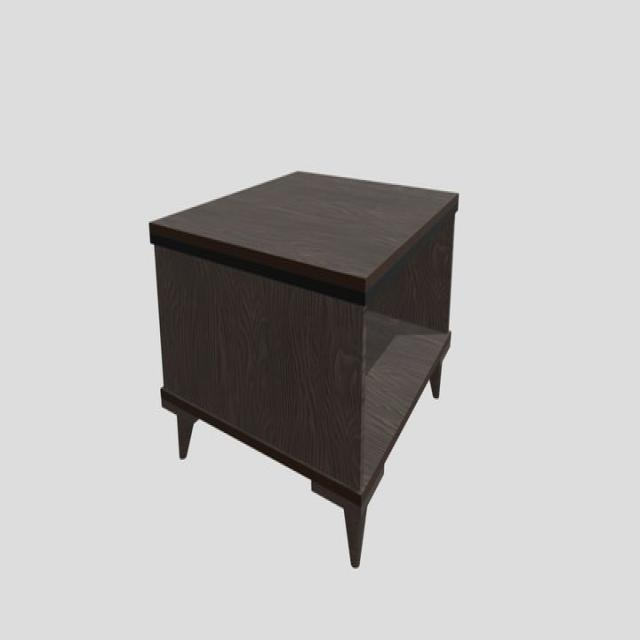table: (146, 166, 462, 570)
